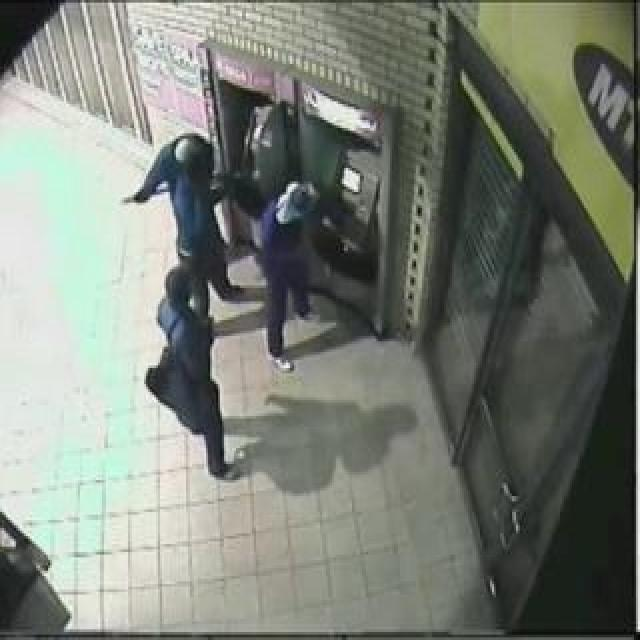thief: (129, 122, 314, 327)
